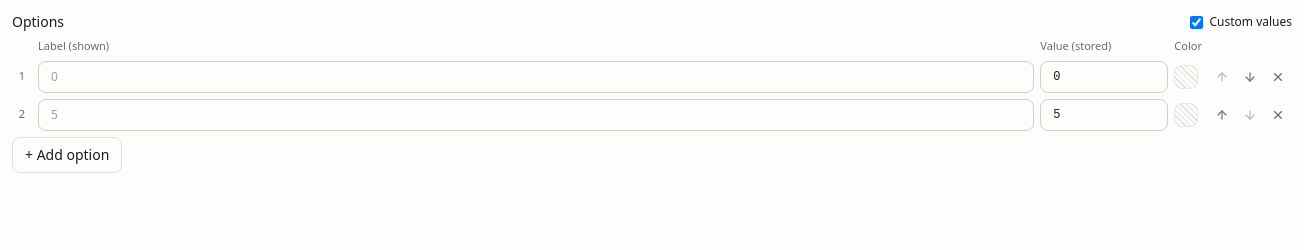
it: OptionsEditor › custom ordinal values are set by hand and must rise; unticking it numbers them again
Check: the checkbox labelled "Custom values" is checked, box top-left (1190, 16), bottom-right (1204, 28)
Replace the text in the 2nd number field with placeholder "value" with "0": (1104, 114) top-left (1040, 98), bottom-right (1168, 130)
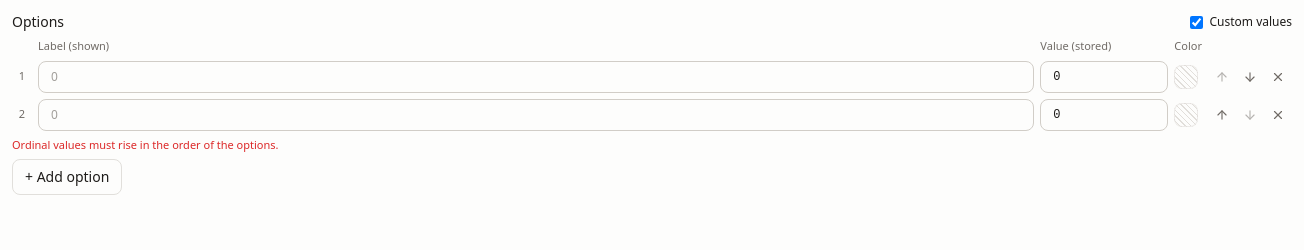
Check: the text "Ordinal values must rise in the order of the options." is shown, box top-left (12, 136), bottom-right (278, 152)
Click the button "+ Add option": (67, 177) top-left (12, 159), bottom-right (122, 195)
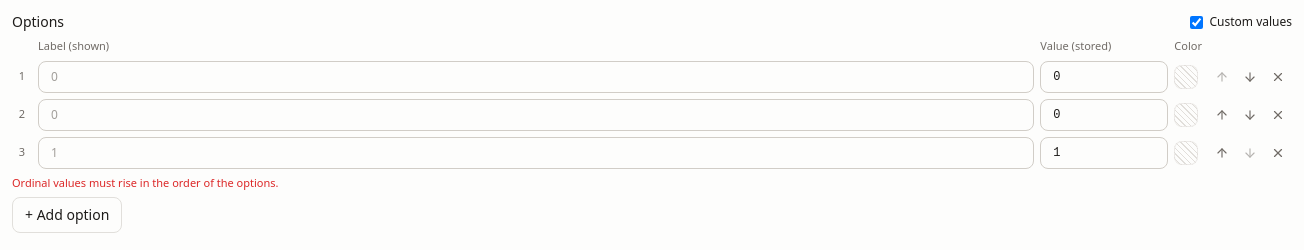
Click the checkbox labelled "Custom values": (1197, 22) top-left (1190, 16), bottom-right (1204, 28)
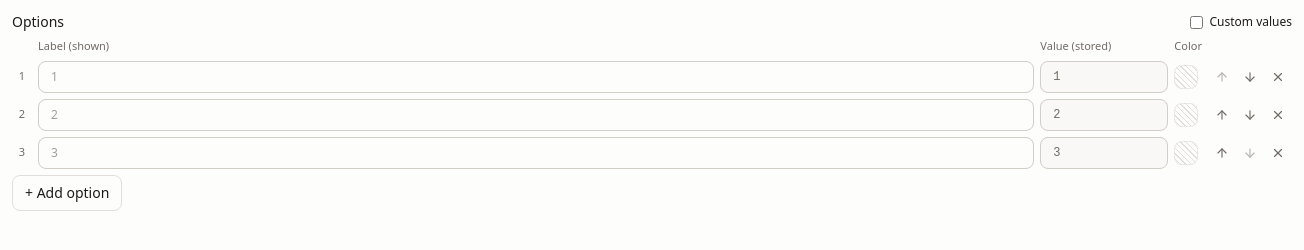
Check: the text "Ordinal values must rise in the order of the options." is gone
